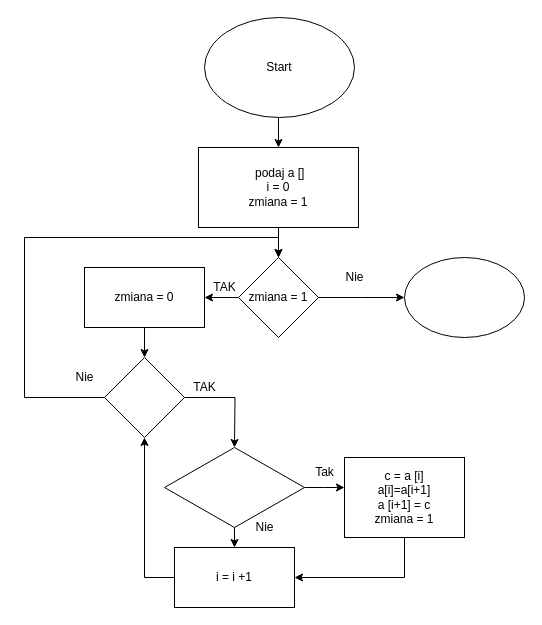
This 542x625 diagram has some shape labels left out. The shapes that lost their labels are listed below. From the top down, each one's box as (x1, y1, x2, y2) in pixels, then its label:
(404, 256, 524, 338): Stop
(104, 356, 184, 438): i < a dl
(164, 446, 304, 528): a [i] > a [i+1]
